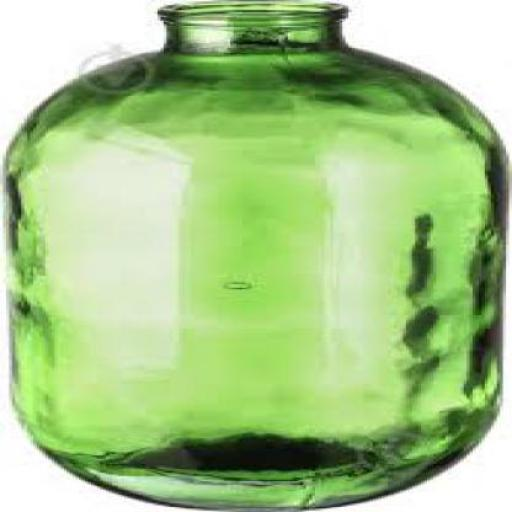glass: (3, 0, 509, 511)
